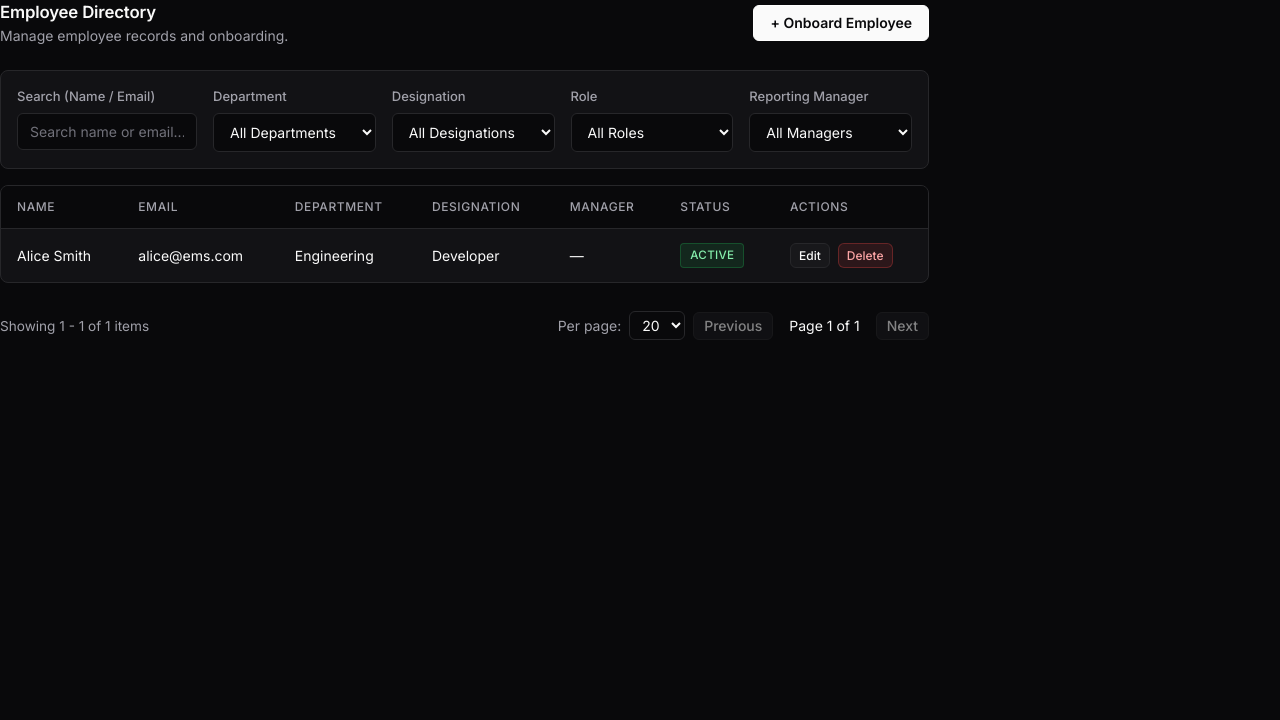
Scenario: Employees Page Component › shows persistent ONBOARDING_FAILED panel on 502 saga failure
Click the button with test id "onboard-employee-btn" at (841, 23), box left=754, top=5, right=929, bottom=41
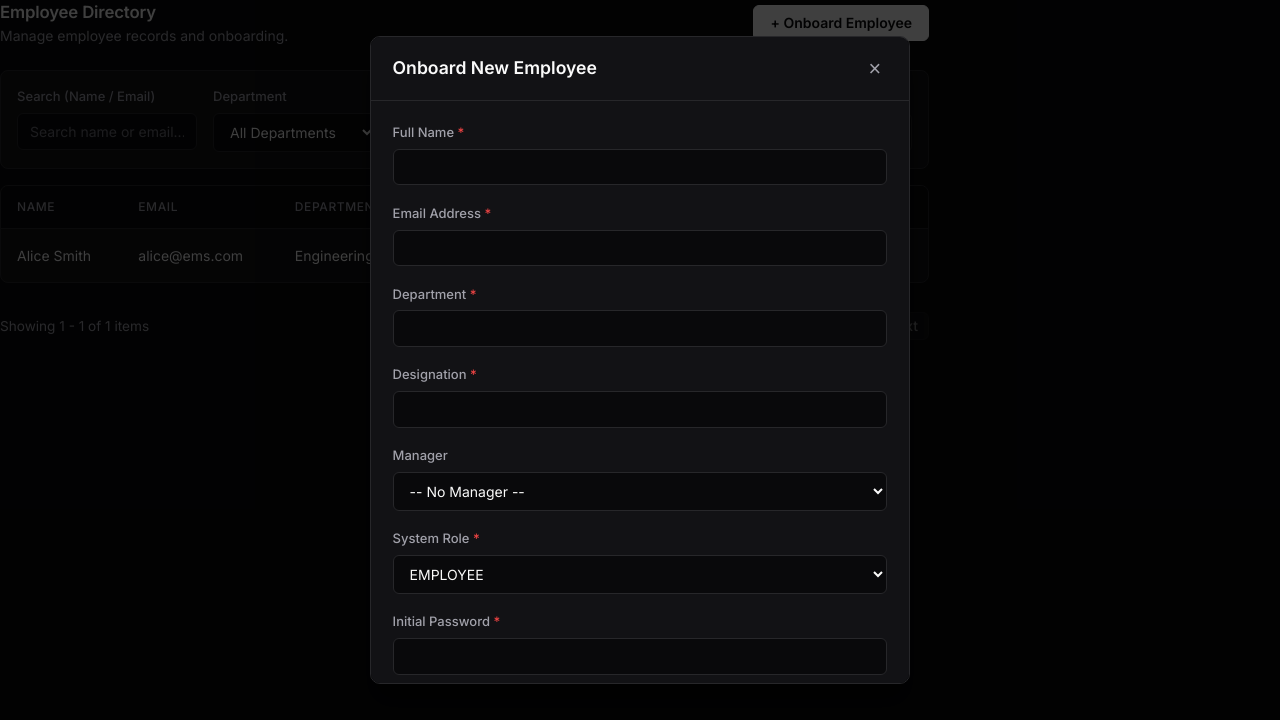
Type "Bob Fail" into the field labelled "Full Name *" at (640, 167), box left=393, top=149, right=887, bottom=185
Type "fail@ems.com" into the field labelled "Email Address *" at (640, 248), box left=393, top=230, right=887, bottom=266
Type "QA" into the field labelled "Department *" at (640, 329), box left=393, top=310, right=887, bottom=347
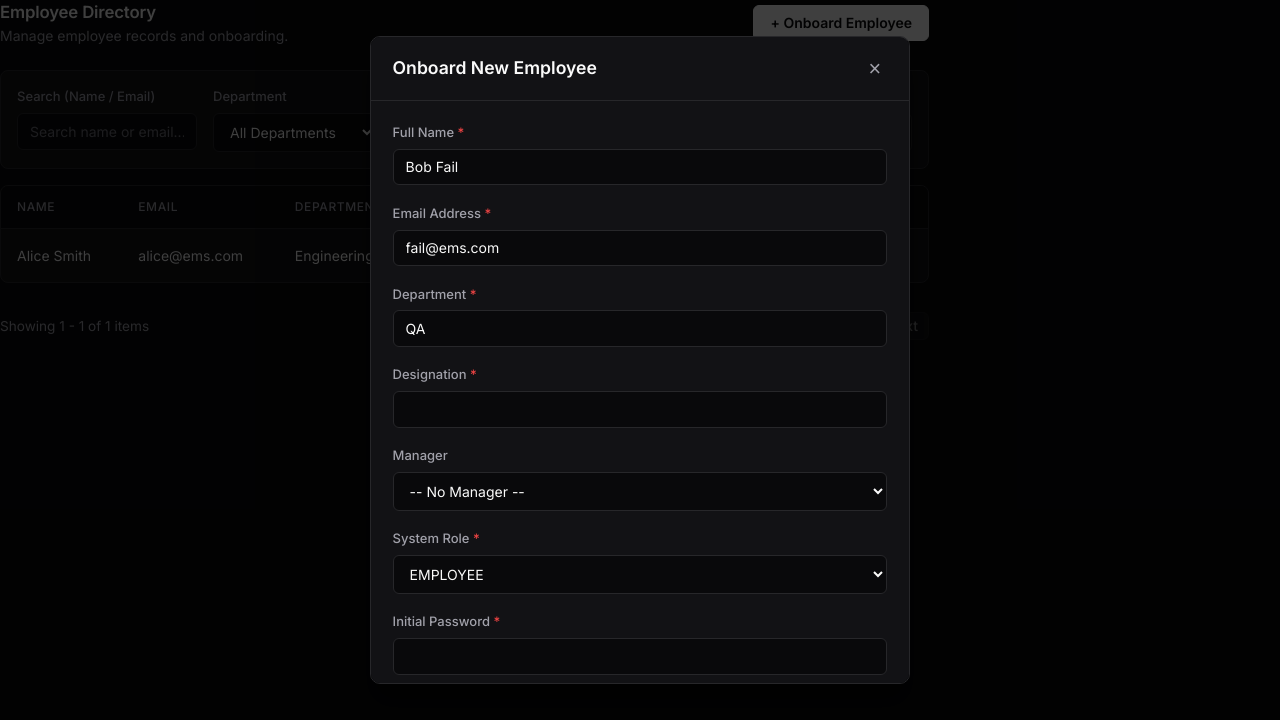
Type "Tester" into the field labelled "Designation *" at (640, 410), box left=393, top=391, right=887, bottom=428
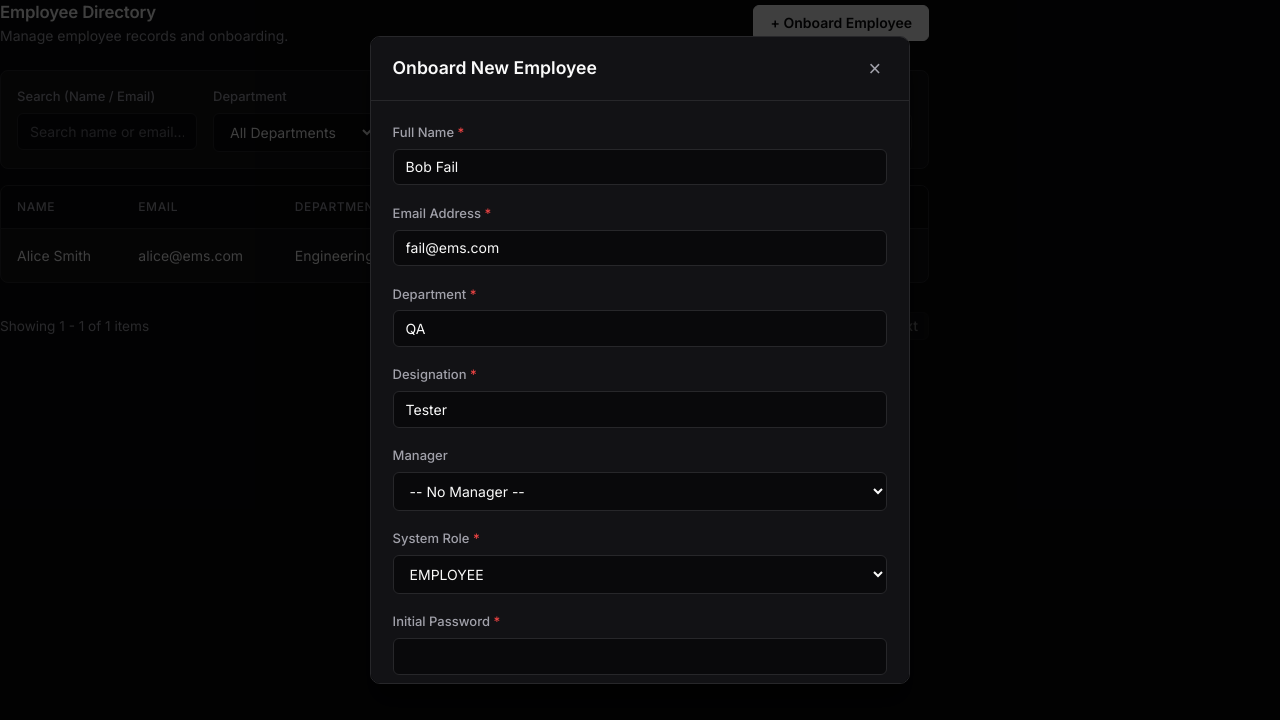
Type "Password123!" into the password field labelled "Initial Password *" at (640, 656), box left=393, top=638, right=887, bottom=674
(page scrolled)
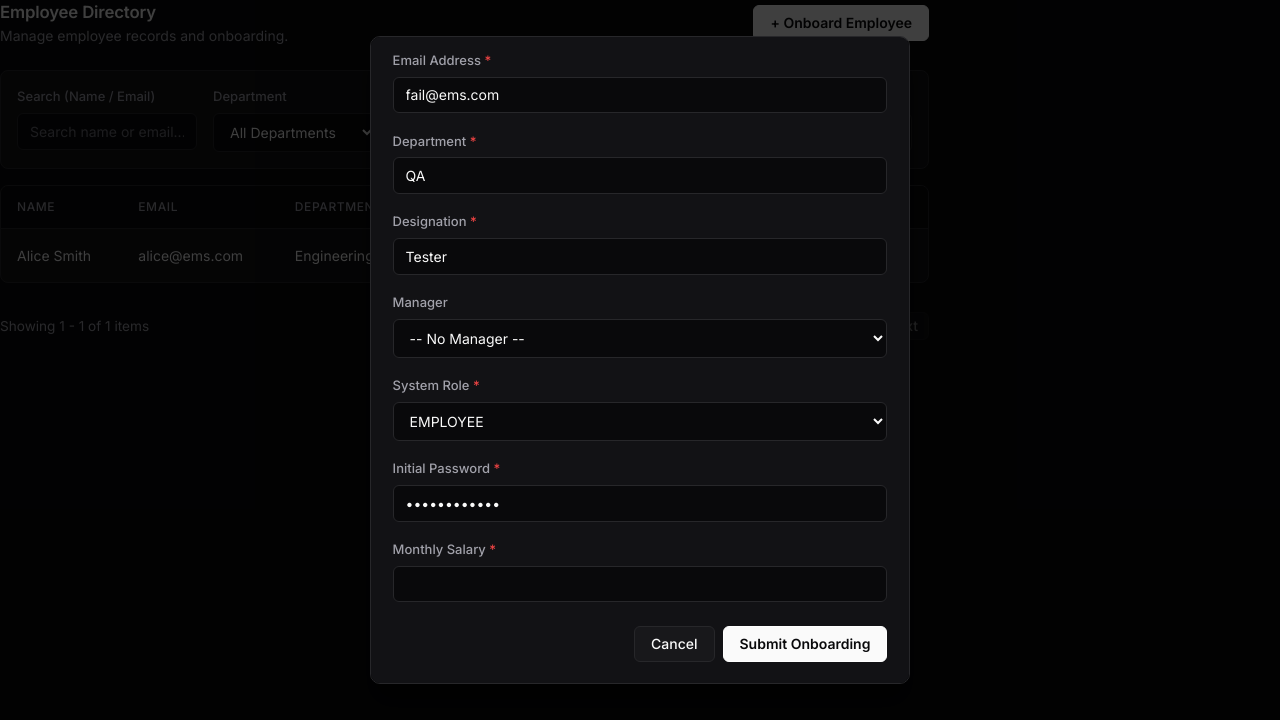
Type "4000" into the number field labelled "Monthly Salary *" at (640, 584), box left=393, top=566, right=887, bottom=602
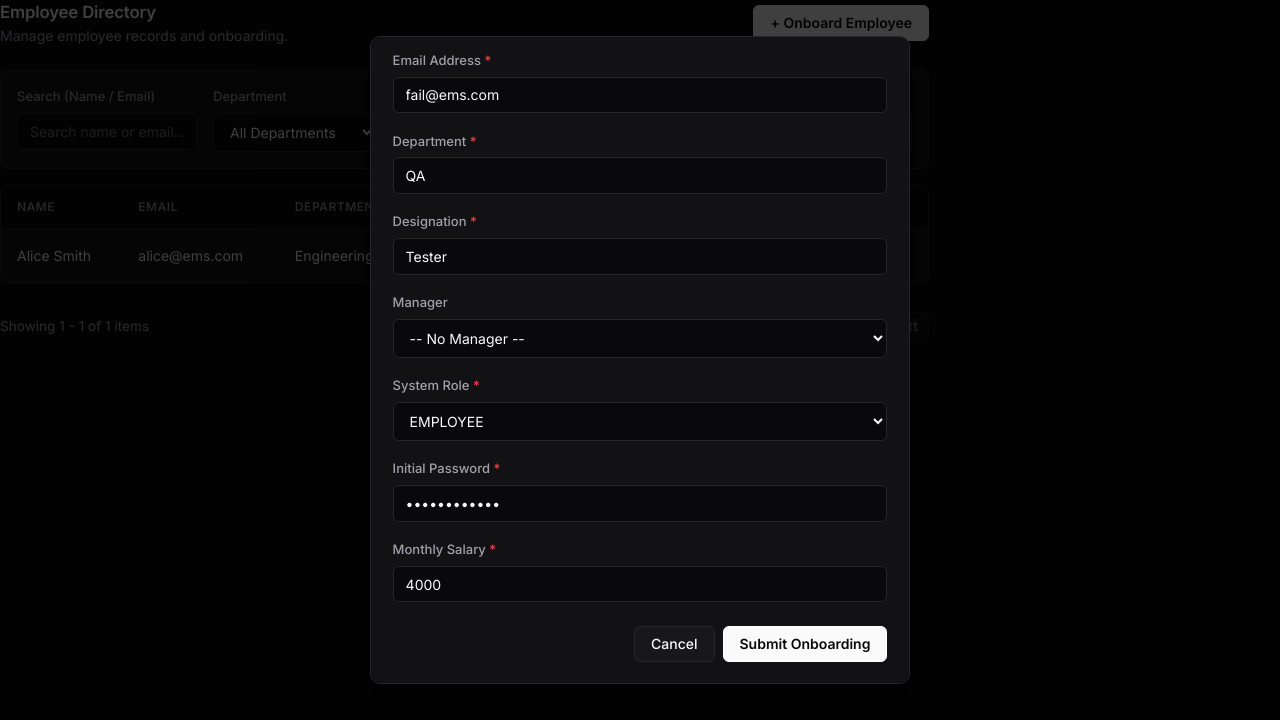
Click the button with test id "submit-onboard-btn" at (805, 644), box left=722, top=626, right=887, bottom=662
(page scrolled)
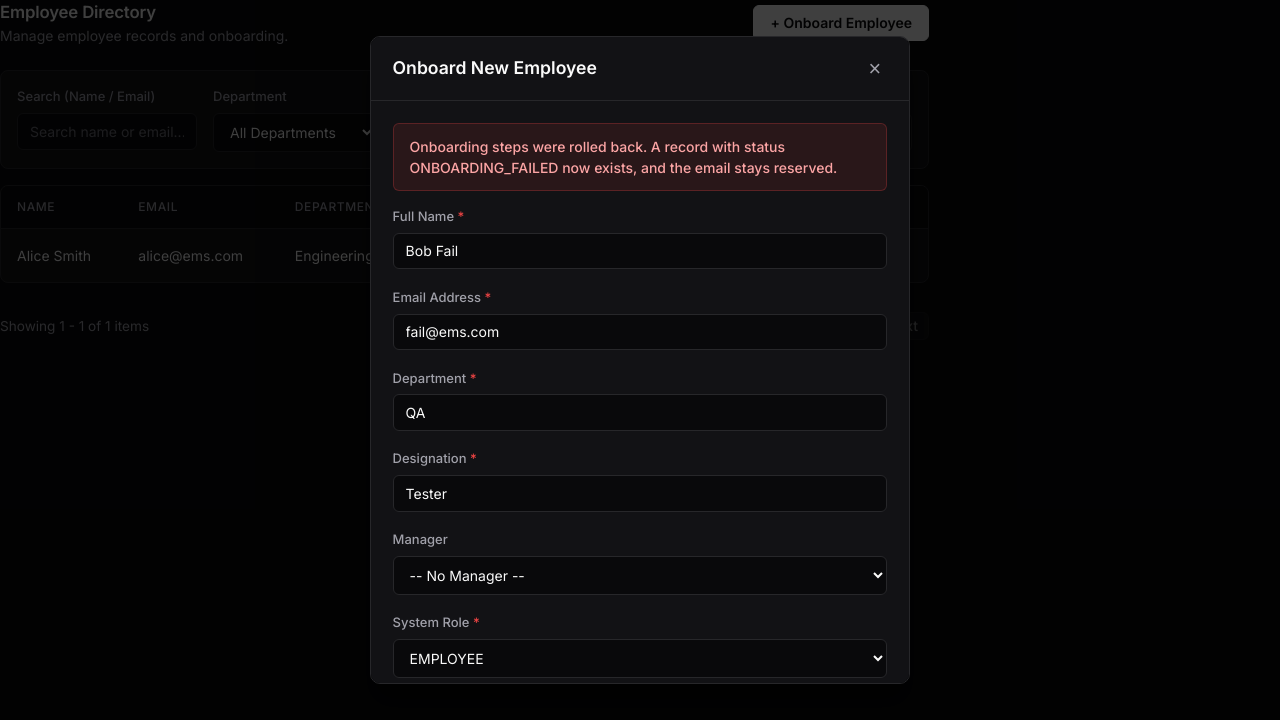
Now the text with test id "onboarding-saga-error" shows "Onboarding steps were rolled back", box left=410, top=138, right=837, bottom=176
